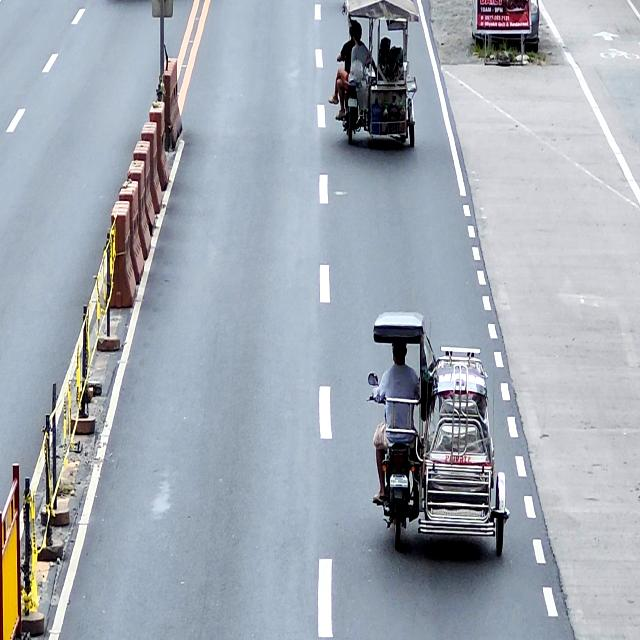License-Plate: (389, 474, 409, 488), (347, 98, 358, 108)
Tricycle: (368, 311, 511, 557), (338, 0, 419, 149)
